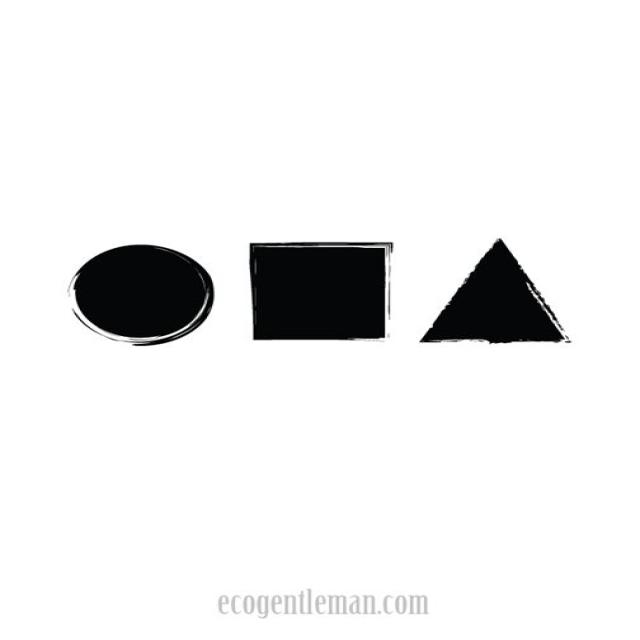circle: (24, 232, 233, 358)
square: (244, 232, 414, 356)
triangle: (411, 223, 591, 387)
